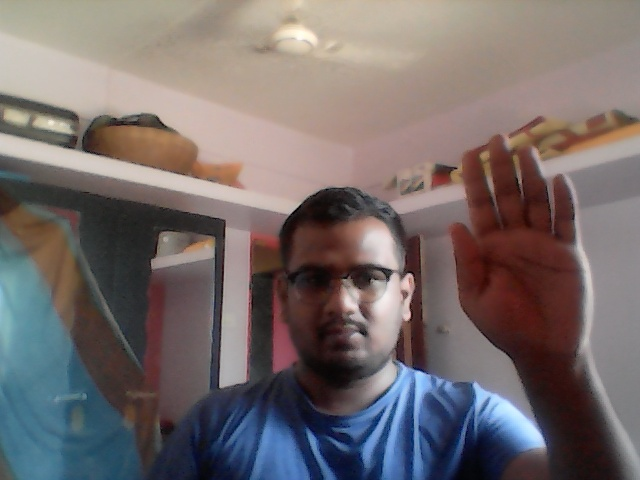Hello: (445, 129, 601, 364)
